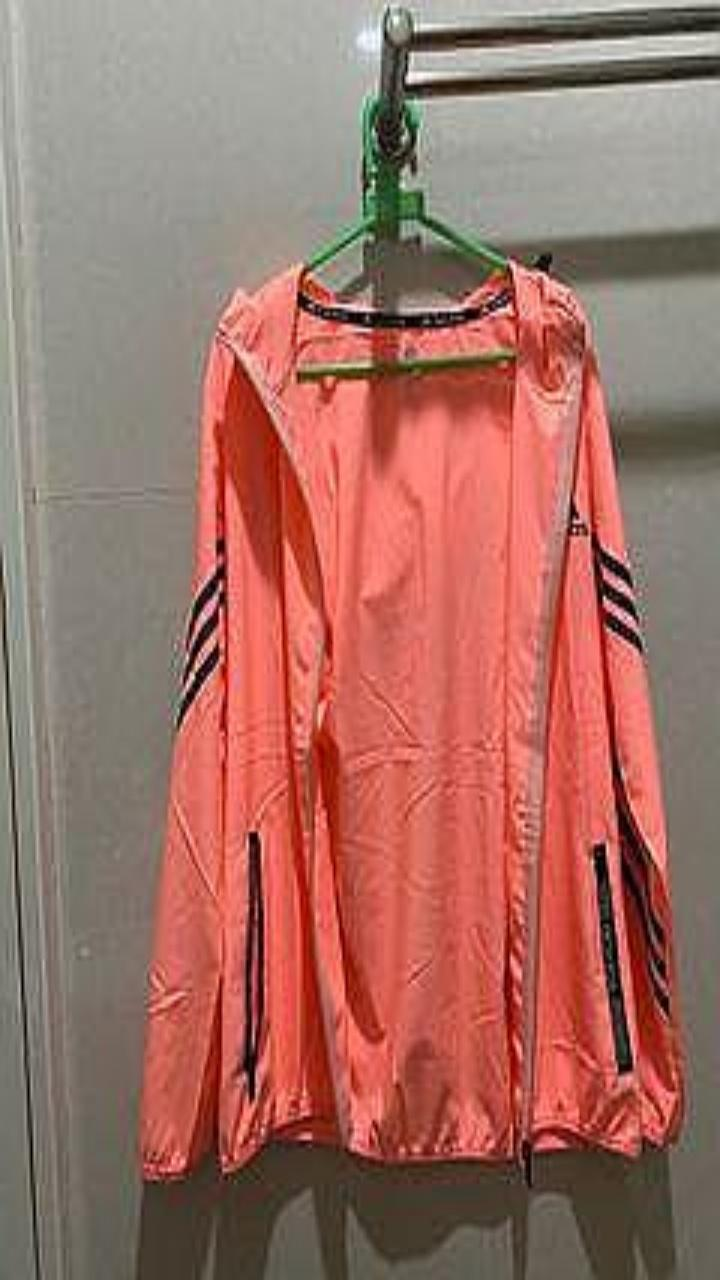Sports_Jacket: (139, 258, 685, 1180)
